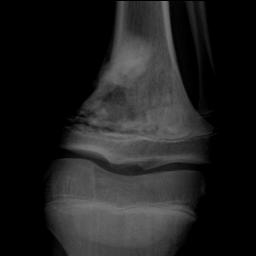cancer: (62, 90, 153, 133), (96, 27, 152, 85)
